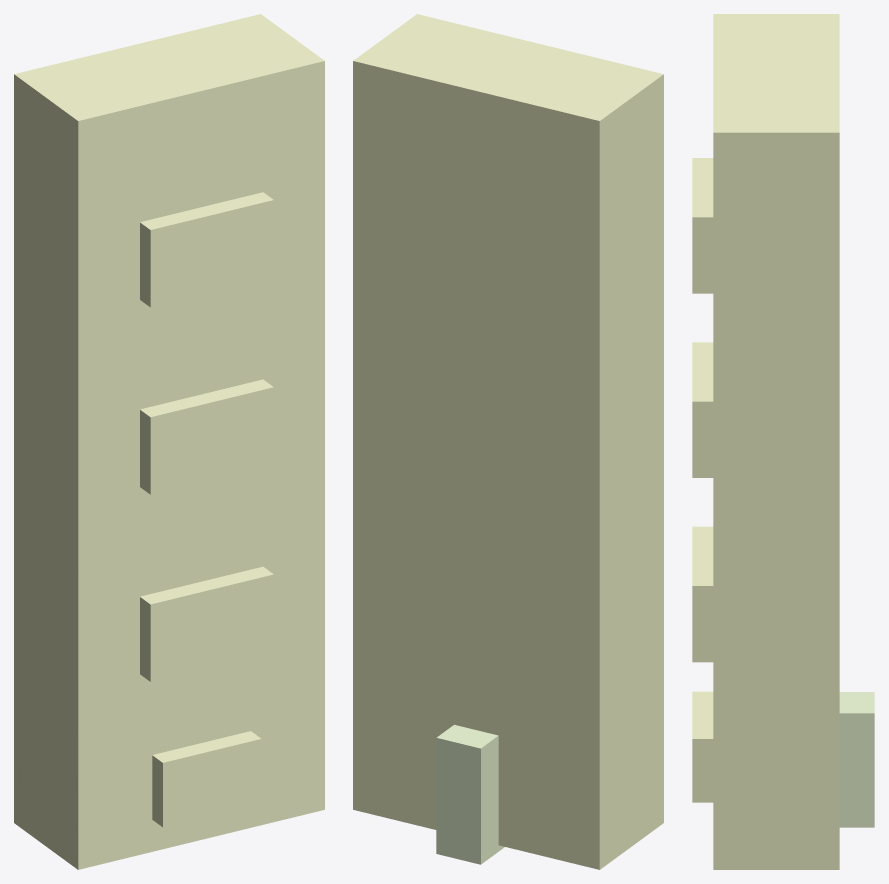
File: signal_tram_priority_vertical_4_aspect.glb
3 views of the same model, side by side, from view 1: azimuth 30°, elevation 25°; view 2: azimuth 150°, elevation 25°; view 3: azimuth 270°, elevation 25° (orthographic).
Parts seen in each view (by area): view 1: housing, display_tram_caution, display_tram_stop, display_tram_go, display_tram_call; view 2: housing, bracket; view 3: housing, bracket, display_tram_go, display_tram_stop, display_tram_caution, display_tram_call.
Boxes of the visible parts, x1,y1,x2,y2 form: housing: (14, 14, 324, 869); display_tram_caution: (140, 379, 273, 494); display_tram_stop: (140, 192, 273, 307); display_tram_go: (140, 566, 273, 681); display_tram_call: (152, 731, 261, 827); housing: (353, 14, 663, 869); bracket: (436, 724, 504, 864); housing: (713, 14, 839, 869); bracket: (839, 692, 874, 827); display_tram_go: (692, 526, 713, 662); display_tram_stop: (692, 158, 713, 293); display_tram_caution: (692, 342, 713, 477); display_tram_call: (692, 691, 713, 802).
Bounding box in the file's own units: 0.4 × 1.17 × 0.26.
